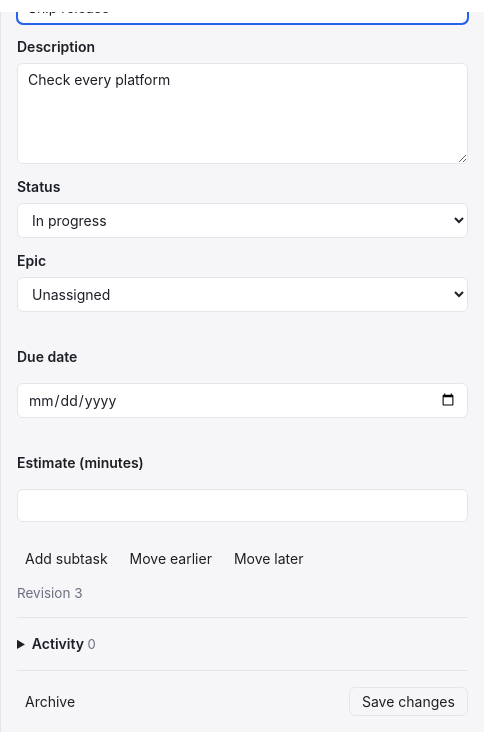
Test: failed archive retains the task and failed saves preserve the draft while serializing controls
(page scrolled)
Click the button "Archive": (50, 701) 17,687 -> 83,716
(page scrolled)
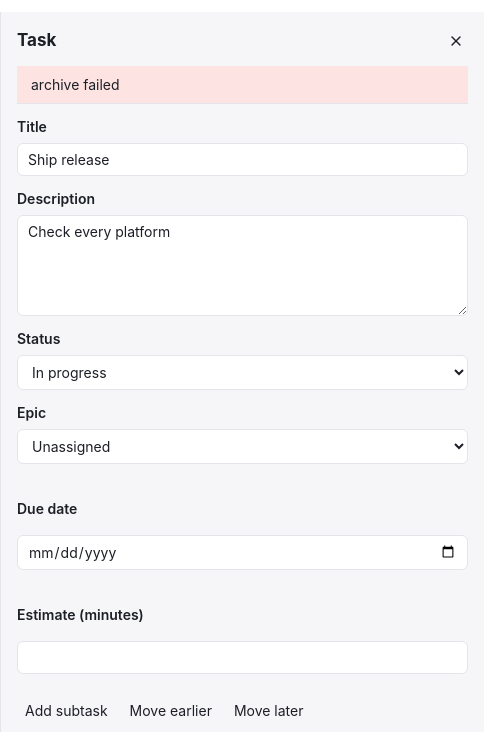
Result: the text "archive failed" is shown at 17,66 -> 468,104
Replace the text in the field labelled "Title" with "Saved draft": (242, 159) 17,142 -> 468,176
(page scrolled)
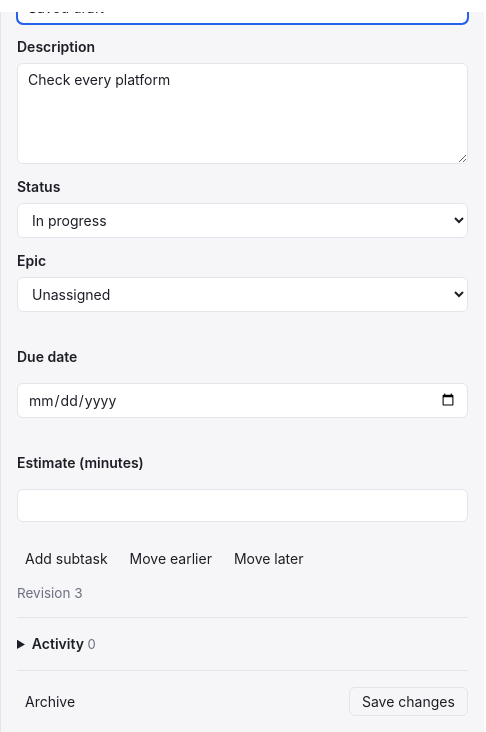
Click the button "Save changes": (408, 701) 349,687 -> 468,716
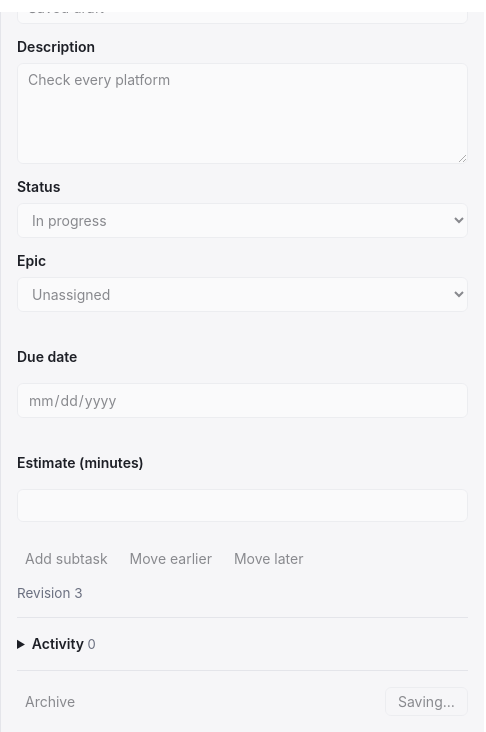
Click the button "Saving…": (426, 701) 385,687 -> 468,716
(page scrolled)
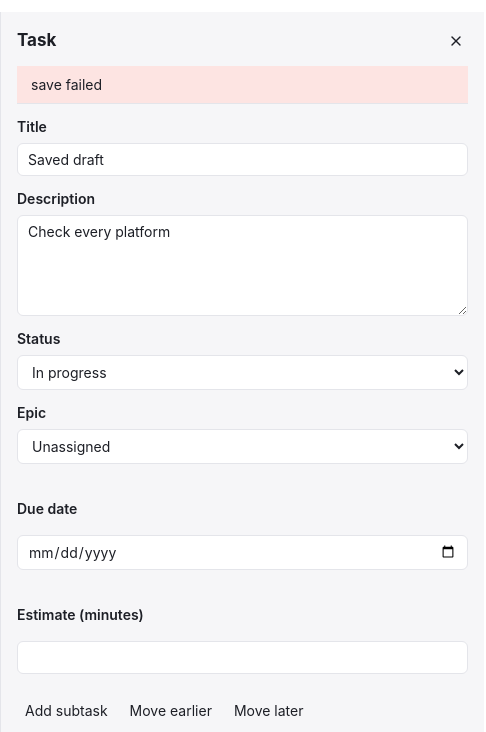
Result: the text "save failed" is shown at 17,66 -> 468,104
Result: the field labelled "Title" is enabled at 17,142 -> 468,176
